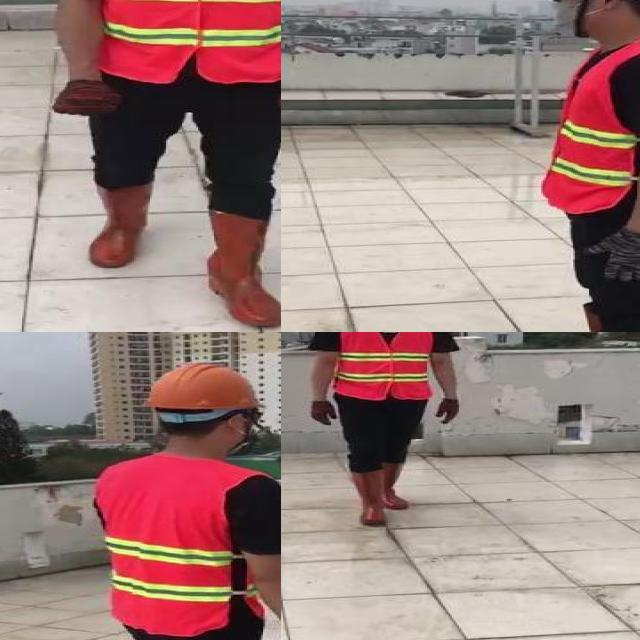boots: (203, 209, 281, 326), (82, 181, 148, 269), (350, 468, 388, 526), (380, 461, 414, 509)
face_mask: (540, 0, 614, 39)
hand_glove: (587, 229, 640, 283), (54, 83, 123, 119), (310, 398, 340, 427), (436, 398, 459, 426)
head_helmet: (140, 358, 270, 412)
person: (32, 0, 281, 332), (83, 358, 281, 640), (482, 0, 640, 332), (307, 332, 465, 533)
vest: (94, 456, 258, 634), (542, 36, 640, 221), (87, 0, 281, 82), (338, 332, 430, 400)
